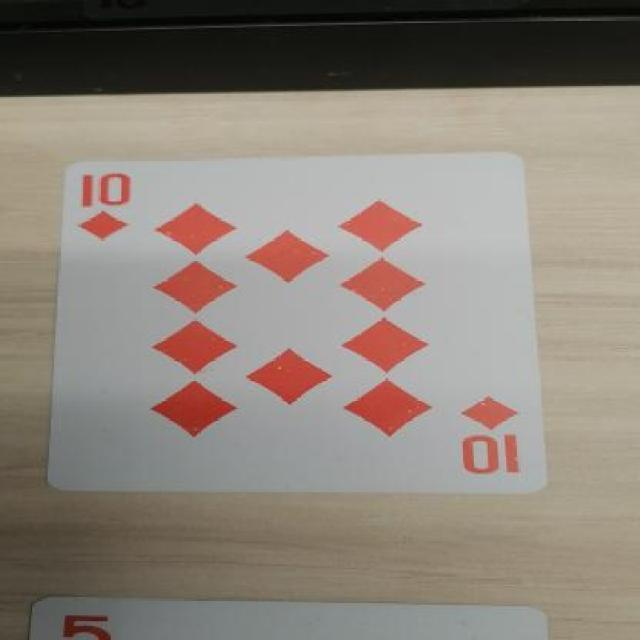10D: (53, 158, 179, 258), (457, 384, 529, 482)
